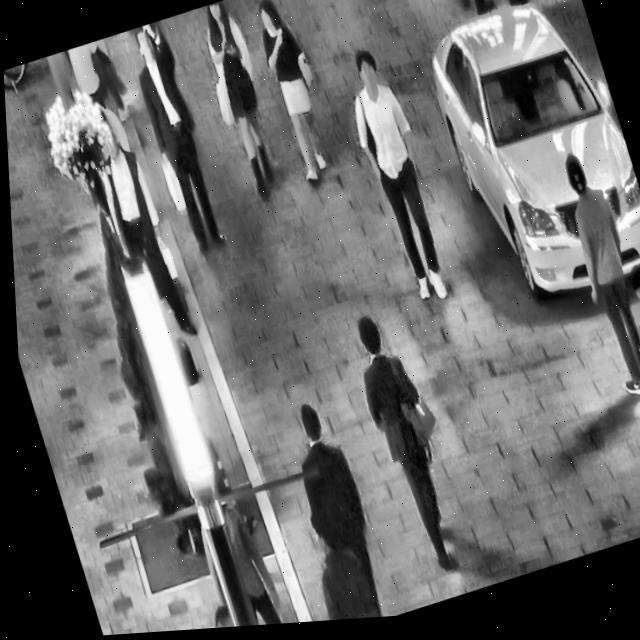light_vehicle: (404, 0, 640, 338)
